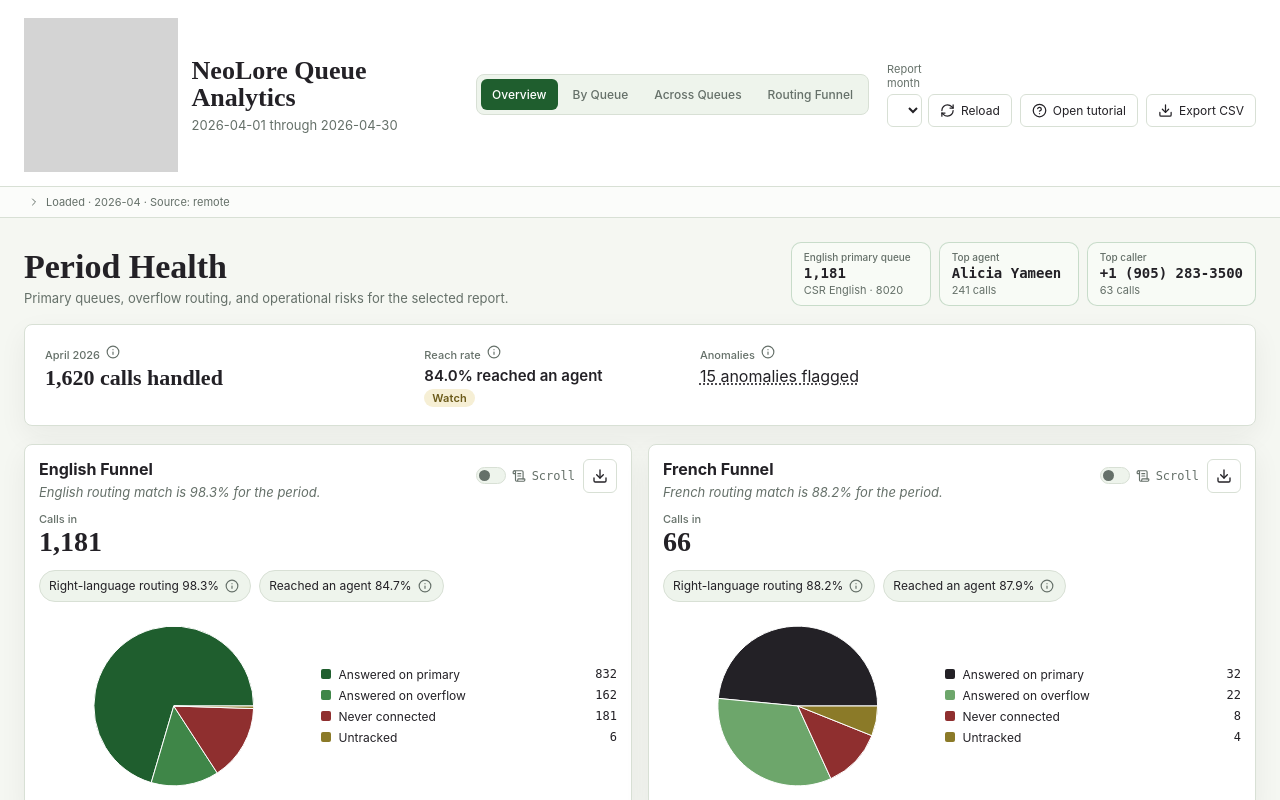
it: App › shows funnel detail routing values
The image size is (1280, 800).
Click the button "Routing Funnel": (810, 95) 757,79 -> 864,110
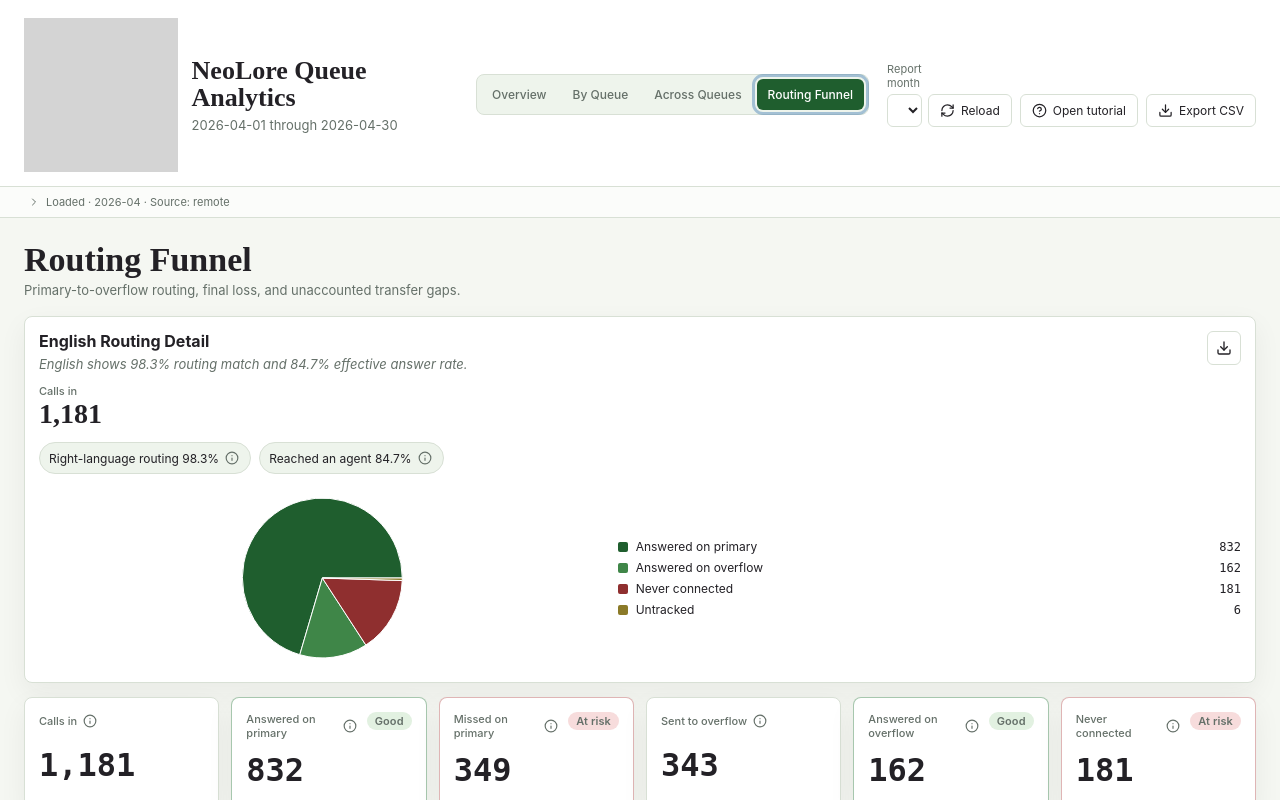
Expected: the text "Untracked" is shown, 636,602 -> 694,617
Result: the text "98.3%" is shown at 39,356 -> 468,372
Result: the text "Missed on primary" is shown at 454,712 -> 560,740
